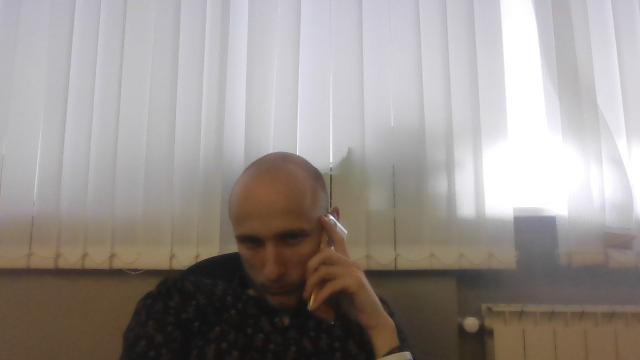PhoneUse: (308, 212, 350, 326)
